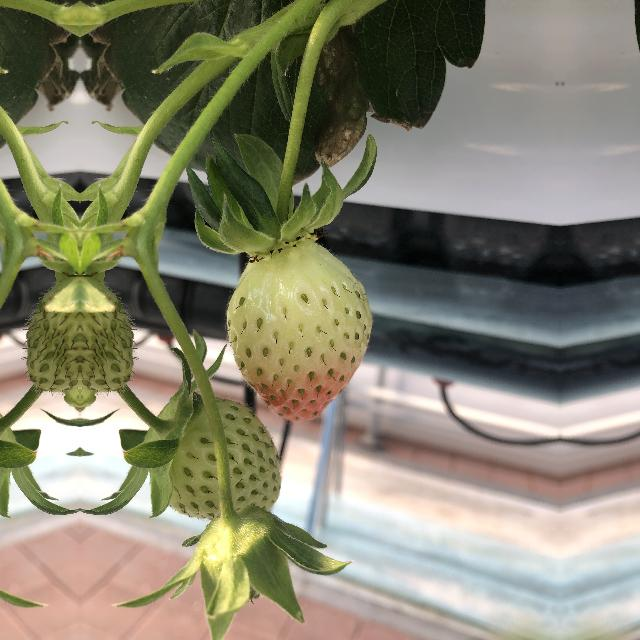Health_25: (150, 396, 284, 526), (80, 272, 138, 392), (22, 272, 80, 392)
Health_50: (226, 239, 378, 433)
